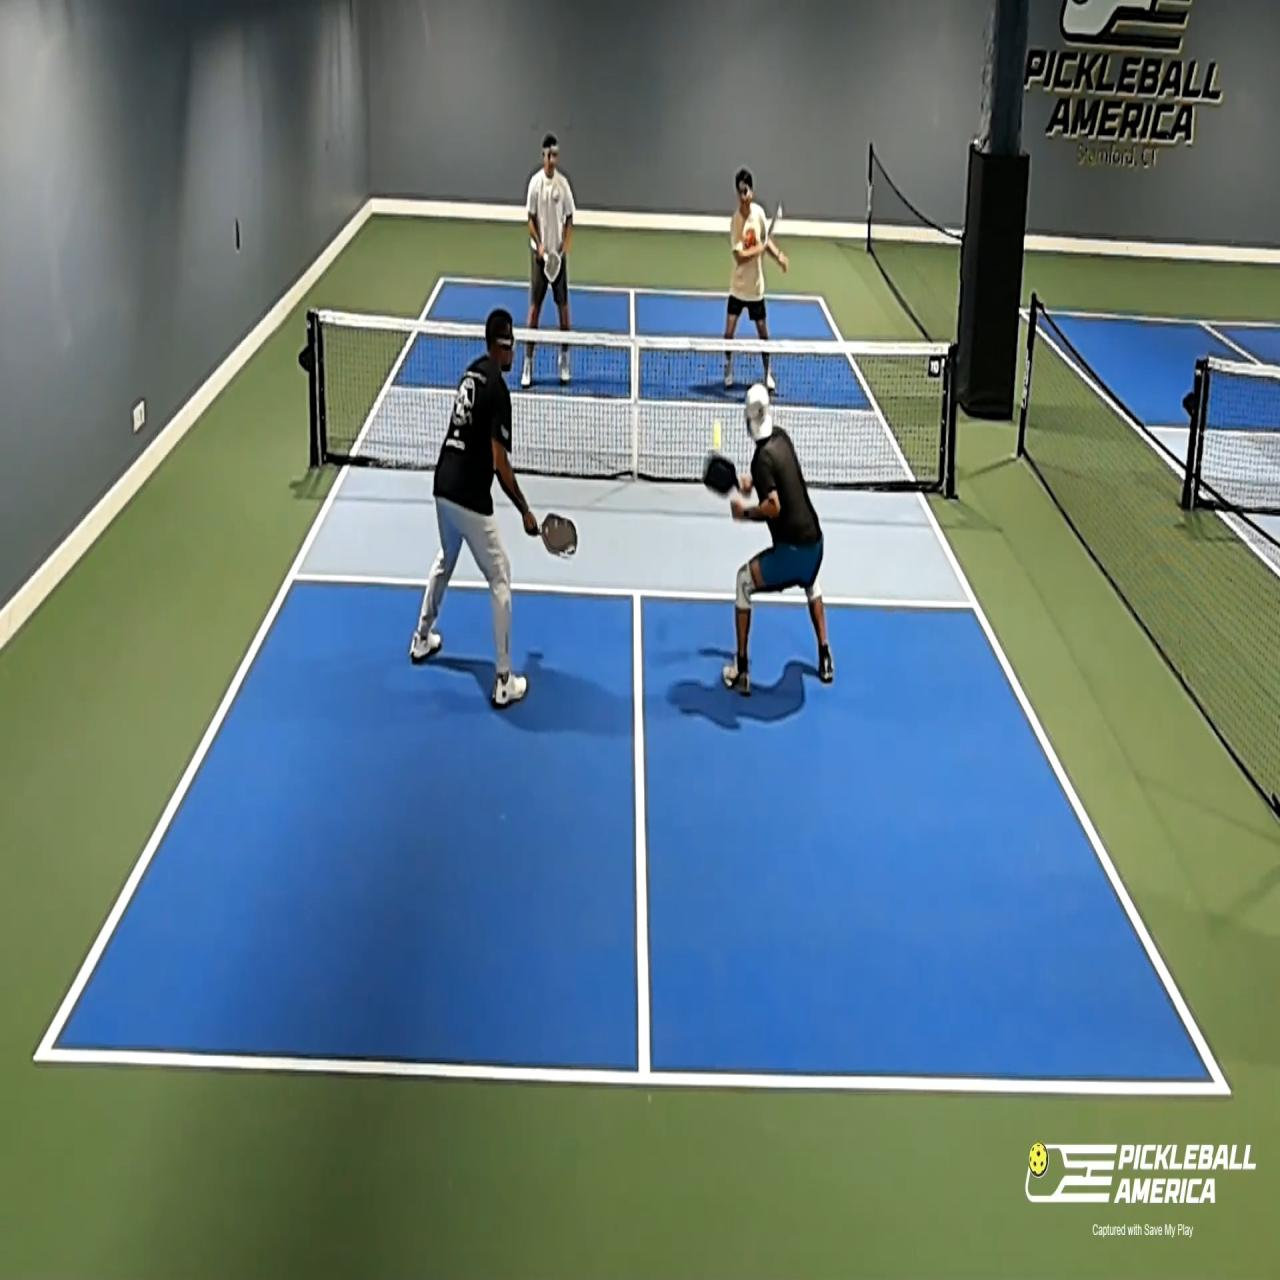Pickleball: (708, 415, 723, 455)
